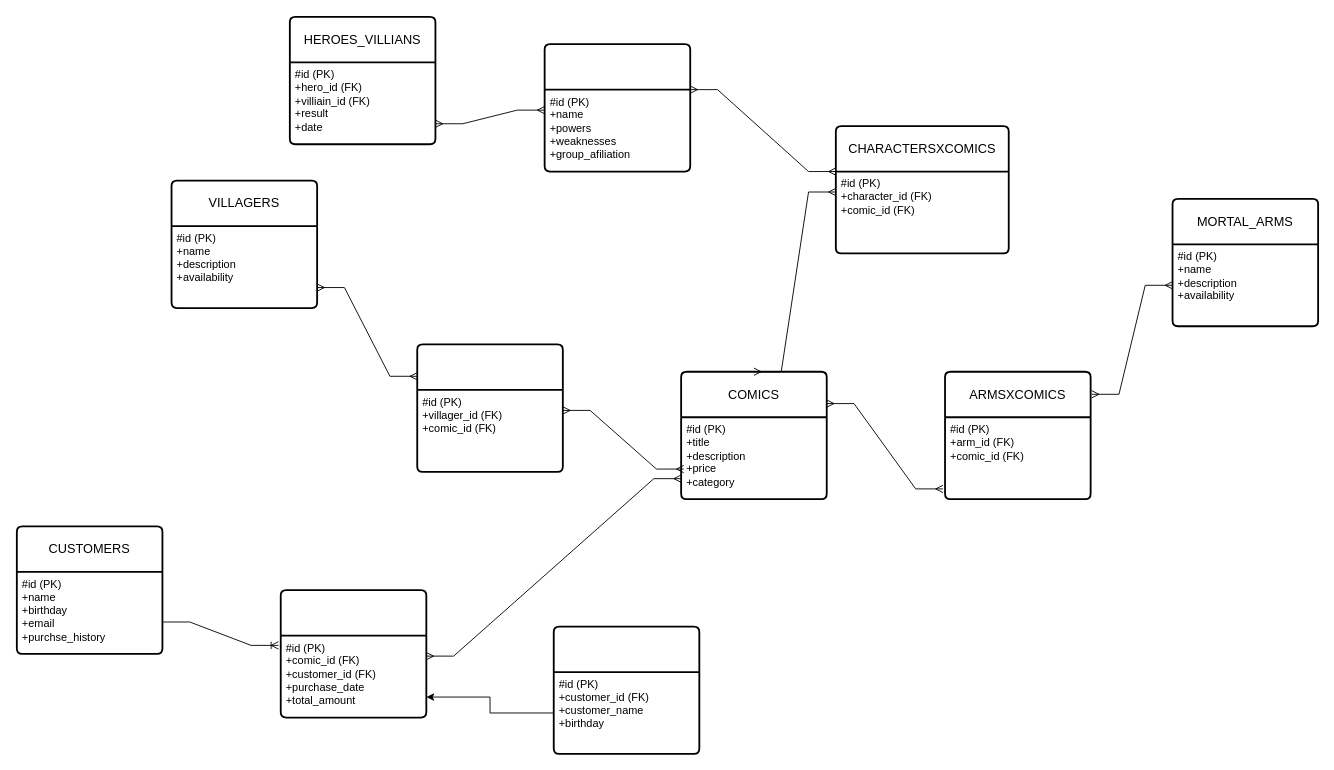
Some shapes in this 1334 by 770 pixel diagram are drawn without their labels. The shapes that lost their labels are listed below. From the top down, each one's box as (x1, y1, x2, y2) in pixels, then its label:
(543, 43, 691, 172): CHARACTER
(416, 343, 563, 472): VILLAGERSXCOMICS
(279, 589, 427, 718): TRANSACTIONS
(552, 625, 700, 754): SPECIAL_OFFERS
